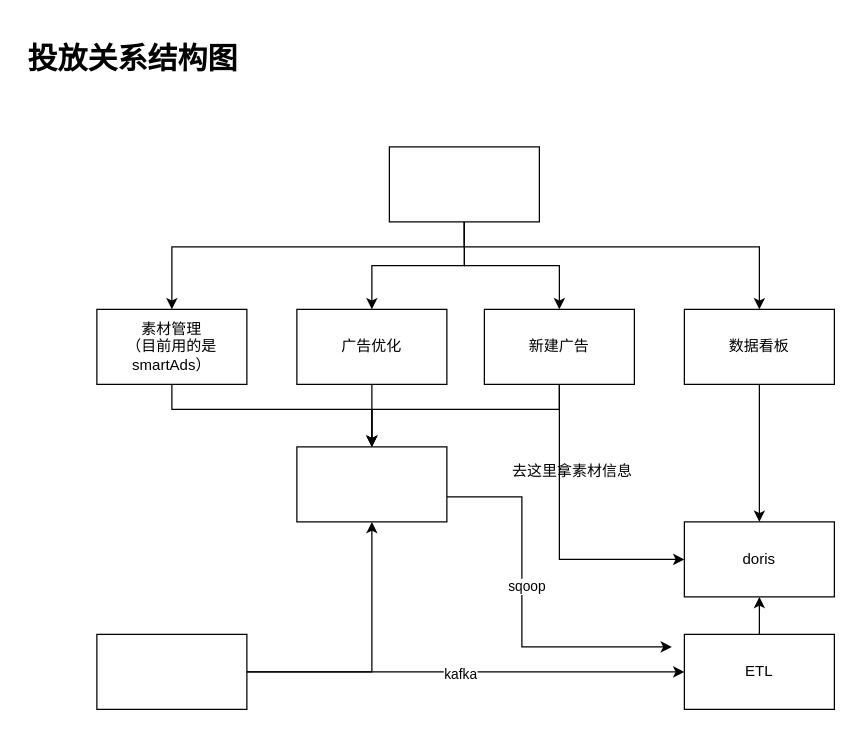
Some shapes in this 856 by 731 pixel diagram are drawn without their labels. The shapes that lost their labels are listed below. From the top down, each one's centre as x and y in pixels, then its label:
At (463,184): "投放中台".
At (371,484): "pg".
At (171,671): "爬虫服务".
